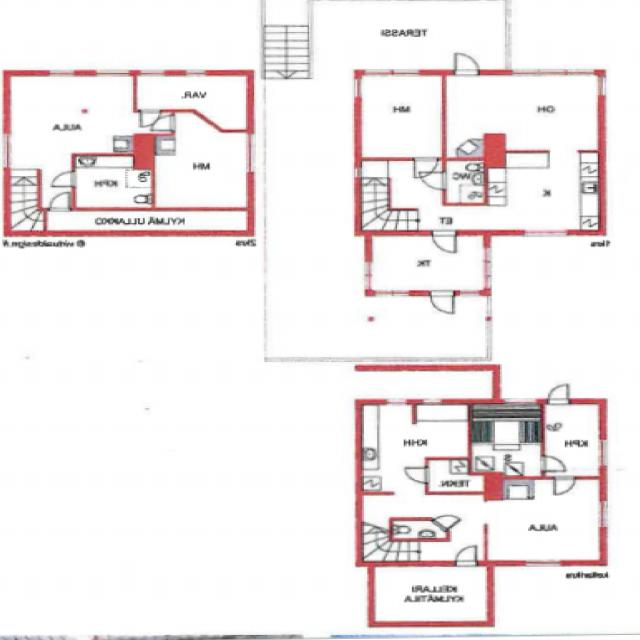door: (418, 171, 448, 190), (432, 510, 460, 530), (455, 52, 479, 75), (432, 230, 454, 253), (432, 291, 454, 313), (415, 157, 438, 178), (548, 383, 569, 404), (456, 545, 476, 566), (149, 115, 175, 131), (52, 172, 78, 187), (140, 110, 161, 128), (404, 468, 429, 483), (541, 456, 566, 471), (556, 475, 575, 494), (51, 193, 69, 211)
